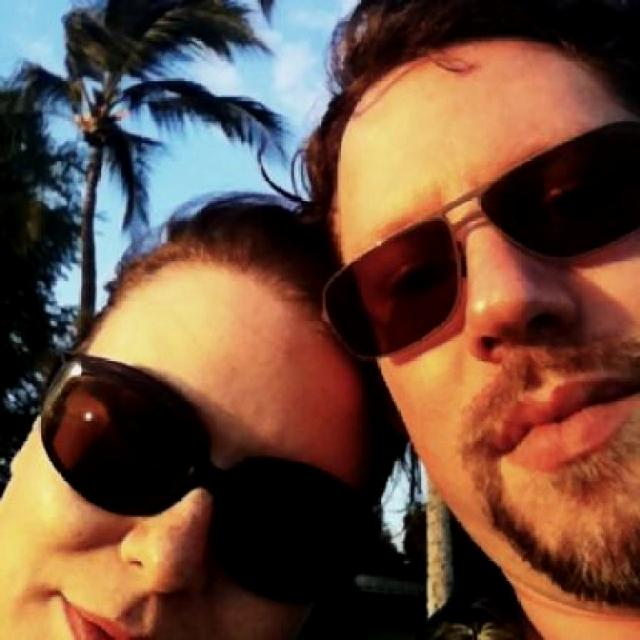face_nomask: (20, 361, 345, 640), (378, 190, 640, 478)
glasses: (38, 347, 380, 615), (314, 115, 640, 359)
head_nohelmet: (304, 18, 584, 144), (160, 192, 358, 342)
